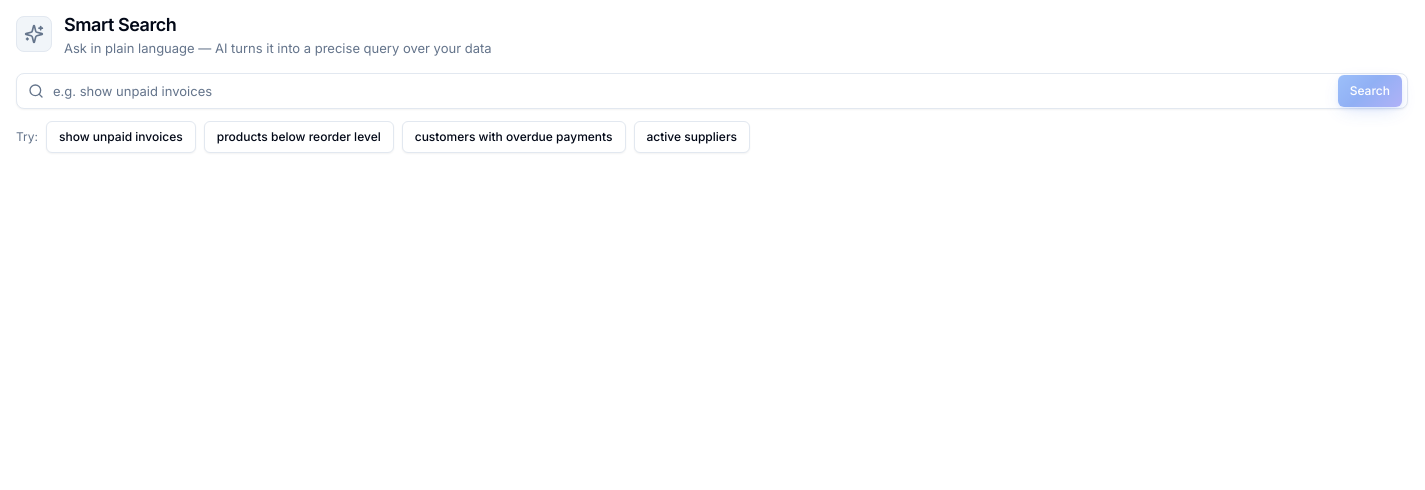
it: SmartSearchView › renders an empty state when there are no matches
Type "nothing here" into the search field named "Smart search query".
click(712, 91); type("nothing here")  # box [16, 73, 1408, 109]
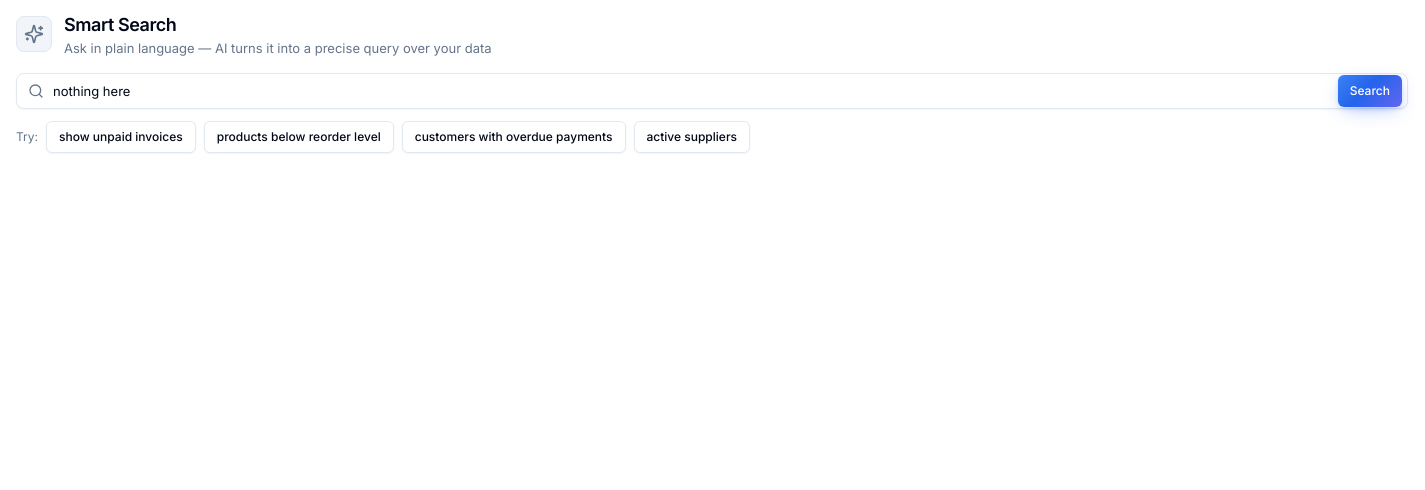
Click the button "Search".
click(1370, 91)  # box [1338, 75, 1402, 107]
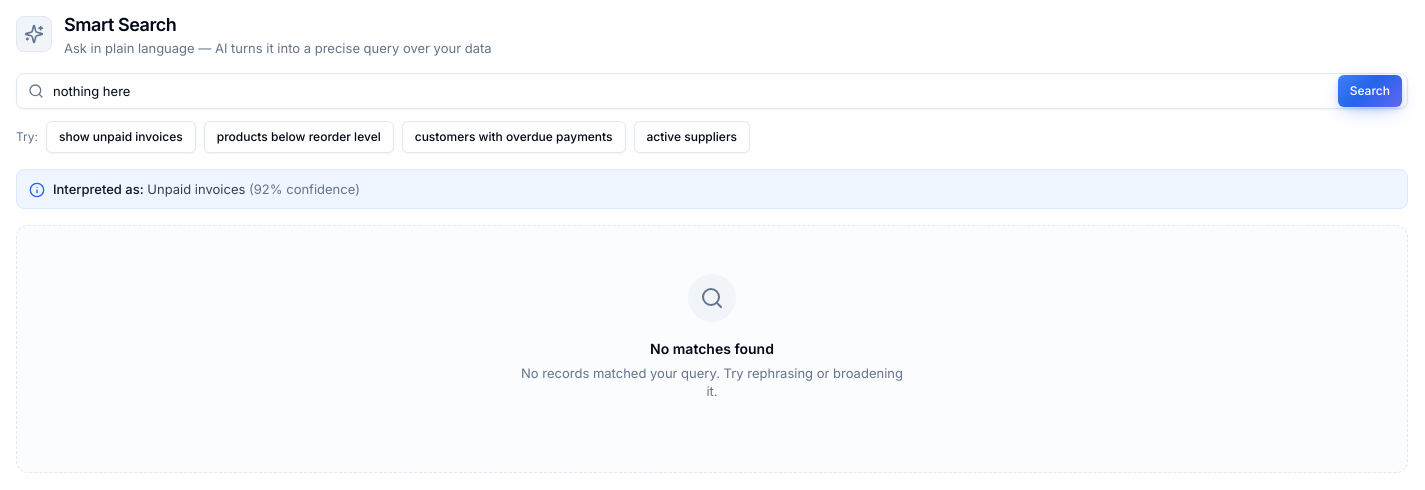
Expected: the heading "No matches found" is shown, [650, 338, 774, 360]
